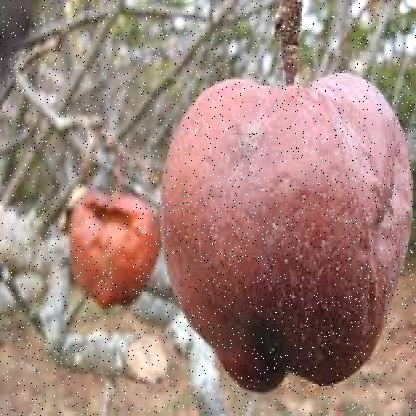damaged_apple: (166, 79, 410, 388), (58, 186, 158, 310)
